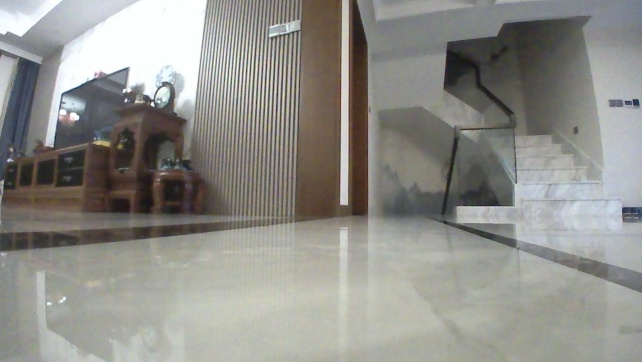TV_stand: (0, 139, 115, 214)
